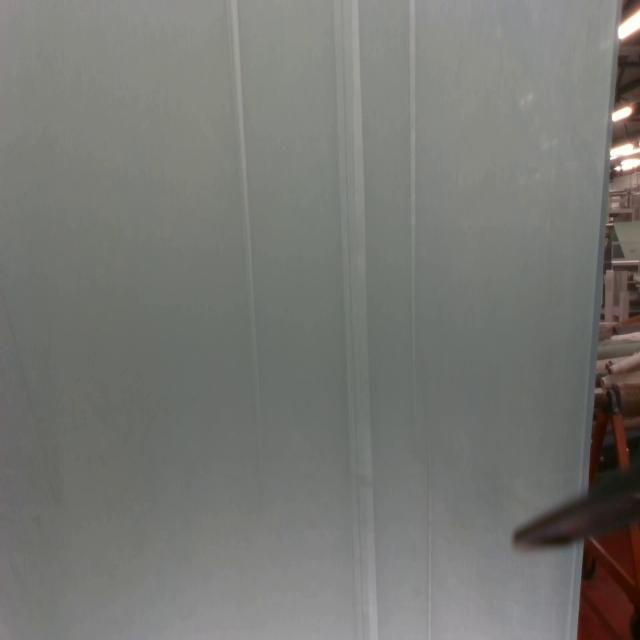crease: (330, 0, 381, 639), (223, 0, 265, 432), (407, 0, 419, 417), (426, 450, 435, 640)
